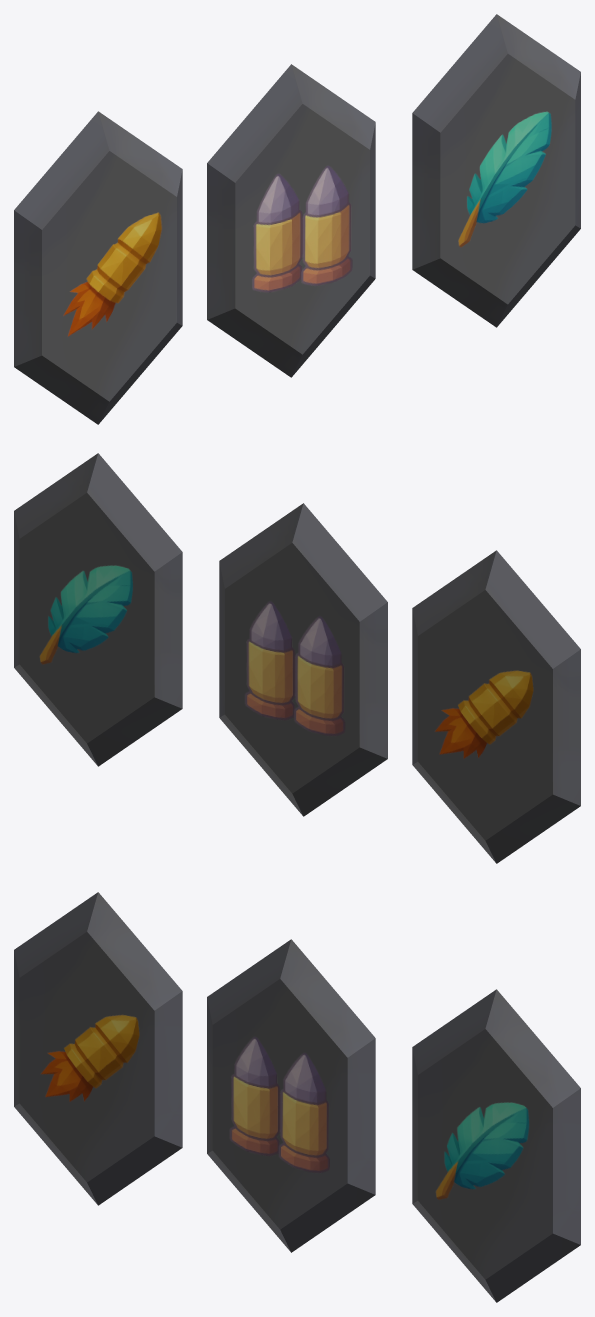
The model's file is OfficeandEnv_PowerUps.fbx.
3 renders of one model, top to bottom at view 1: azimuth 30°, elevation 25°; view 2: azimuth 150°, elevation 25°; view 3: azimuth 330°, elevation 25°, orthographic.
Visible parts, largest first — view 1: Agility, FireRate, DoubleShot; view 2: Agility, FireRate, DoubleShot; view 3: Agility, FireRate, DoubleShot.
Boxes of the visible parts, <box> form: Agility: <box>412,14,580,327</box>; FireRate: <box>14,111,182,424</box>; DoubleShot: <box>207,64,375,377</box>; Agility: <box>14,453,182,766</box>; FireRate: <box>412,550,580,863</box>; DoubleShot: <box>219,503,387,816</box>; Agility: <box>412,989,580,1302</box>; FireRate: <box>14,892,182,1205</box>; DoubleShot: <box>207,939,375,1252</box>.
Size of the model in its own units: 112 by 59.26 by 7.7.
Materials: 3 (3 with a texture image).
